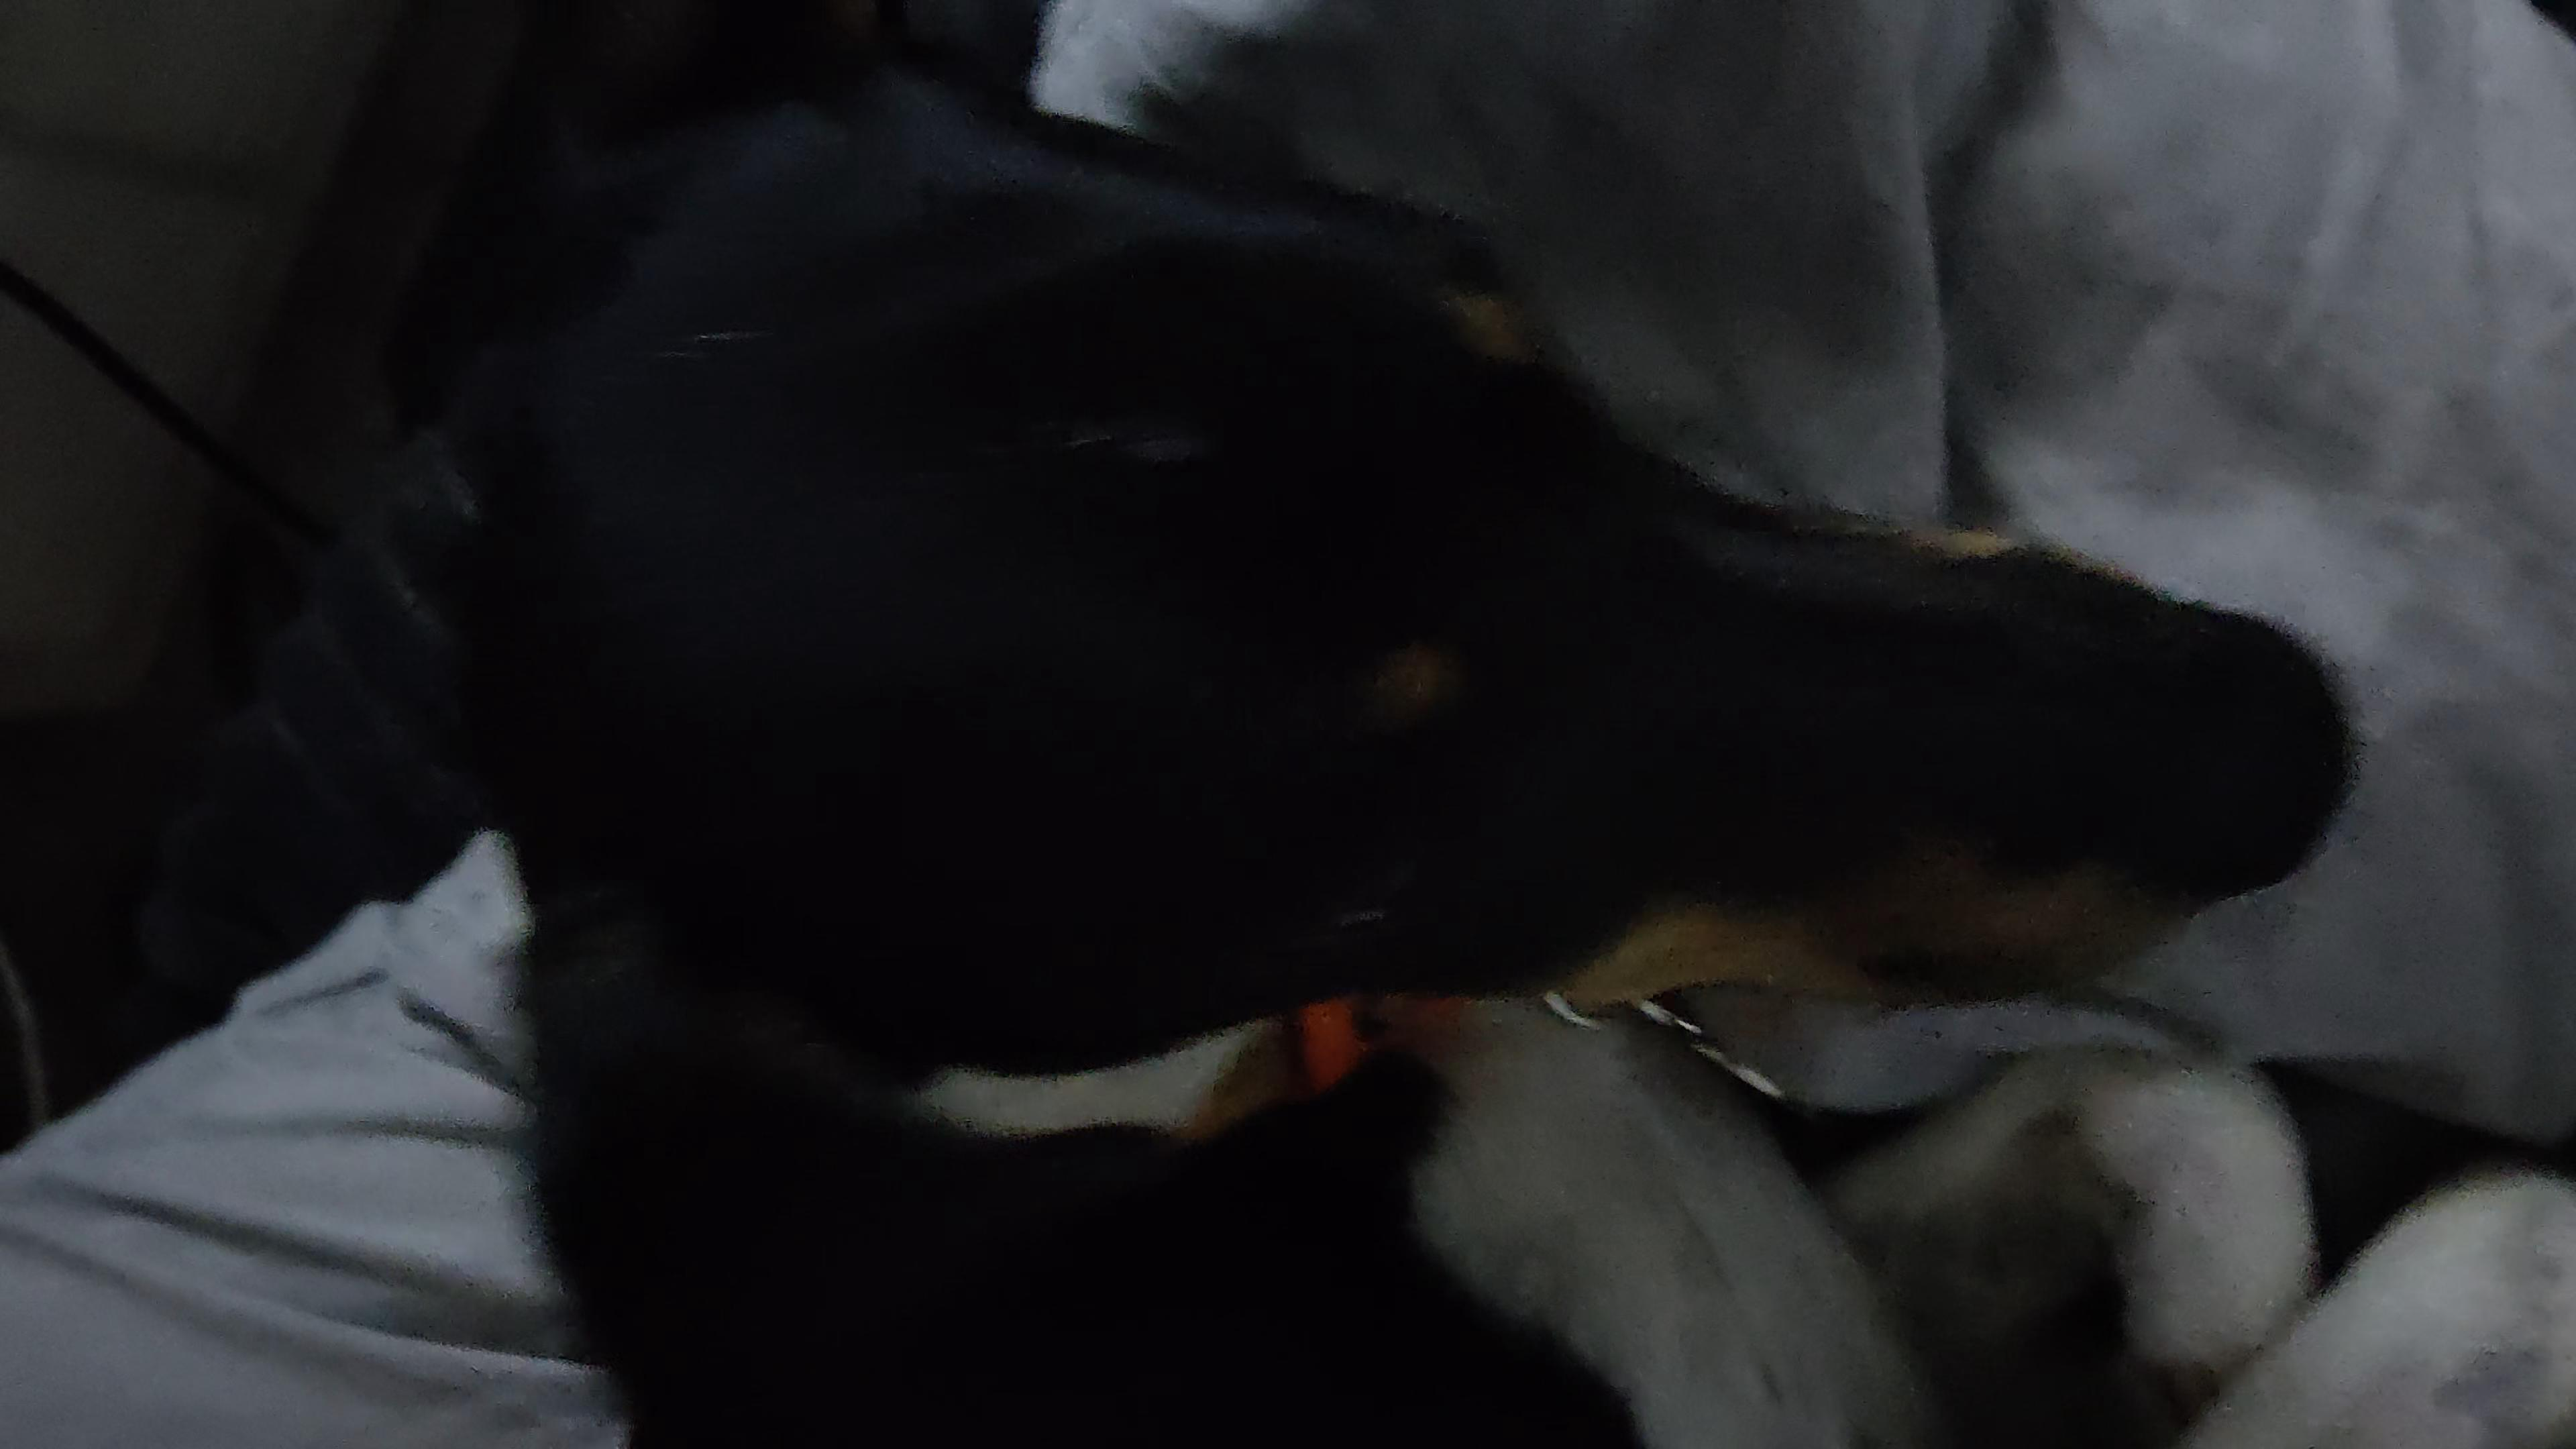Dog: (380, 0, 2576, 1449)
